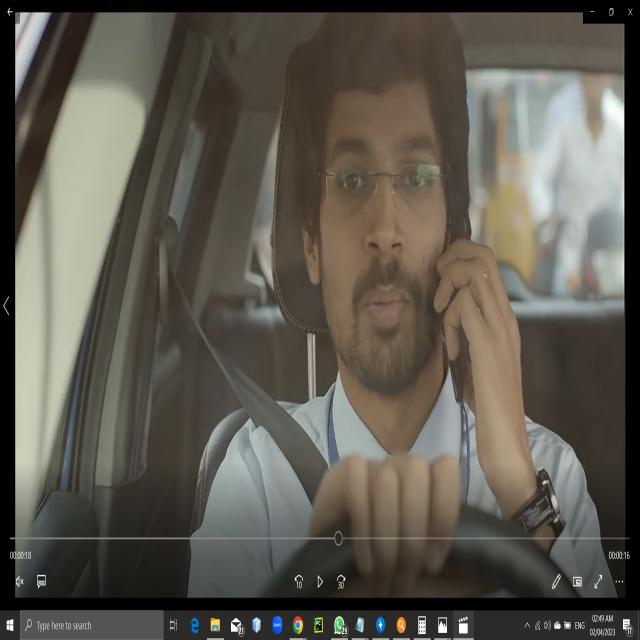using_phone: (348, 180, 499, 404)
